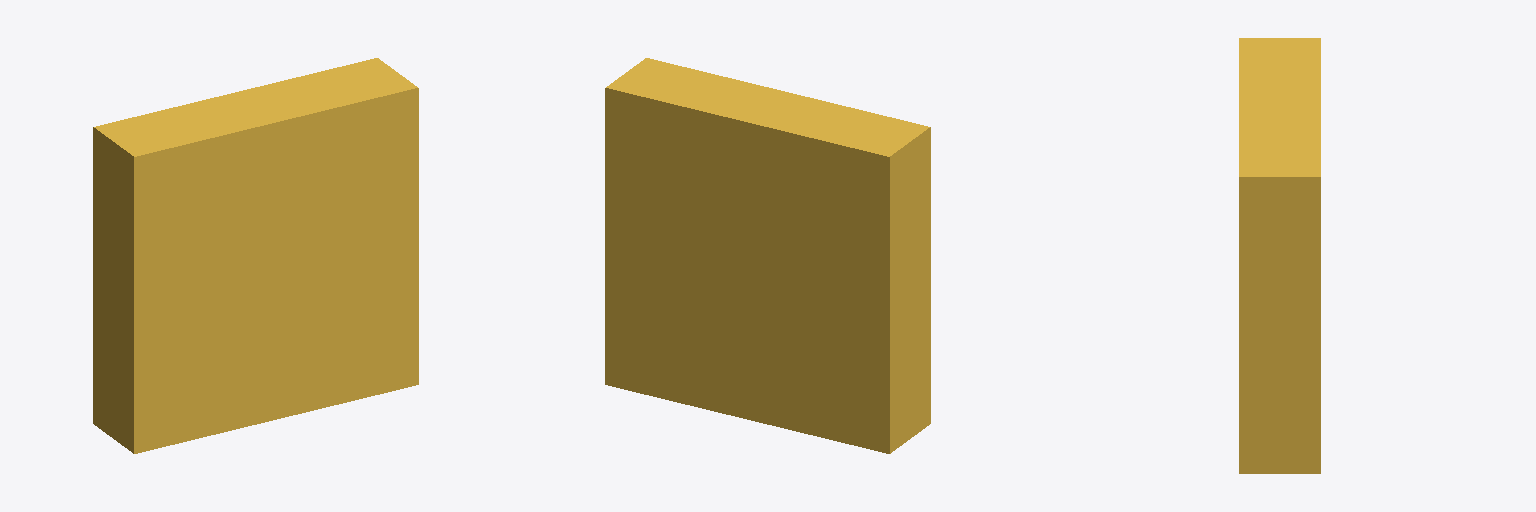
The picture shows the model from 3 angles: view 1: azimuth 30°, elevation 25°; view 2: azimuth 150°, elevation 25°; view 3: azimuth 270°, elevation 25°; orthographic projection.
Parts seen in each view (by area): view 1: object 1; view 2: object 1; view 3: object 1.
Part boxes in pixels (x1,y1,x2,y2): object 1: (93,58,418,453); object 1: (605,58,930,453); object 1: (1239,38,1320,473).
Bounding box in the file's own units: 0.4 × 0.4 × 0.1.
Materials: 1 (1 with a texture image).